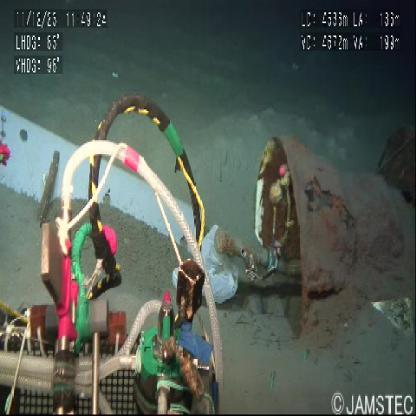Rác: (172, 227, 240, 307)
